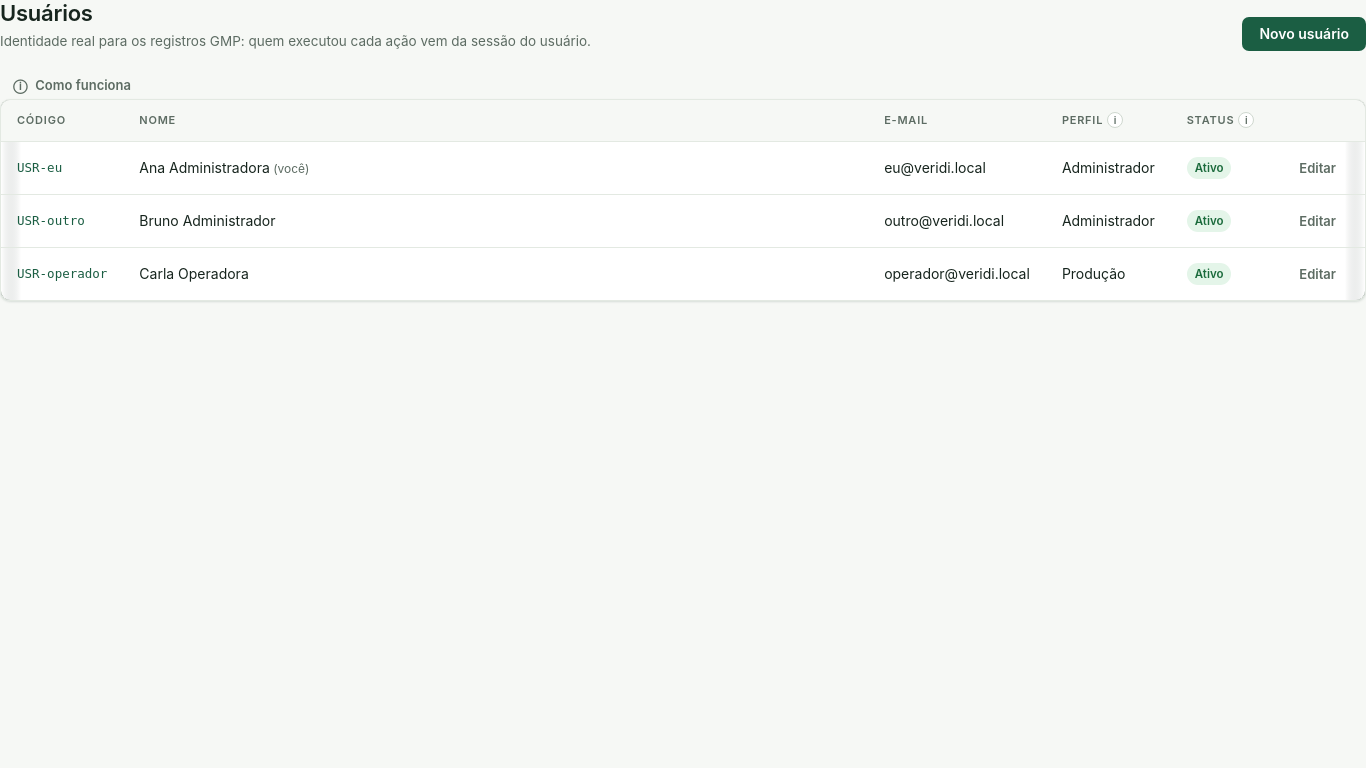
it: o próprio usuário › perfil e situação travados, com o motivo; o nome segue editável e salva sem sair do conjunto
Click the button "Editar" in the row of "USR-eu": click(1318, 168) [1286,154,1349,182]
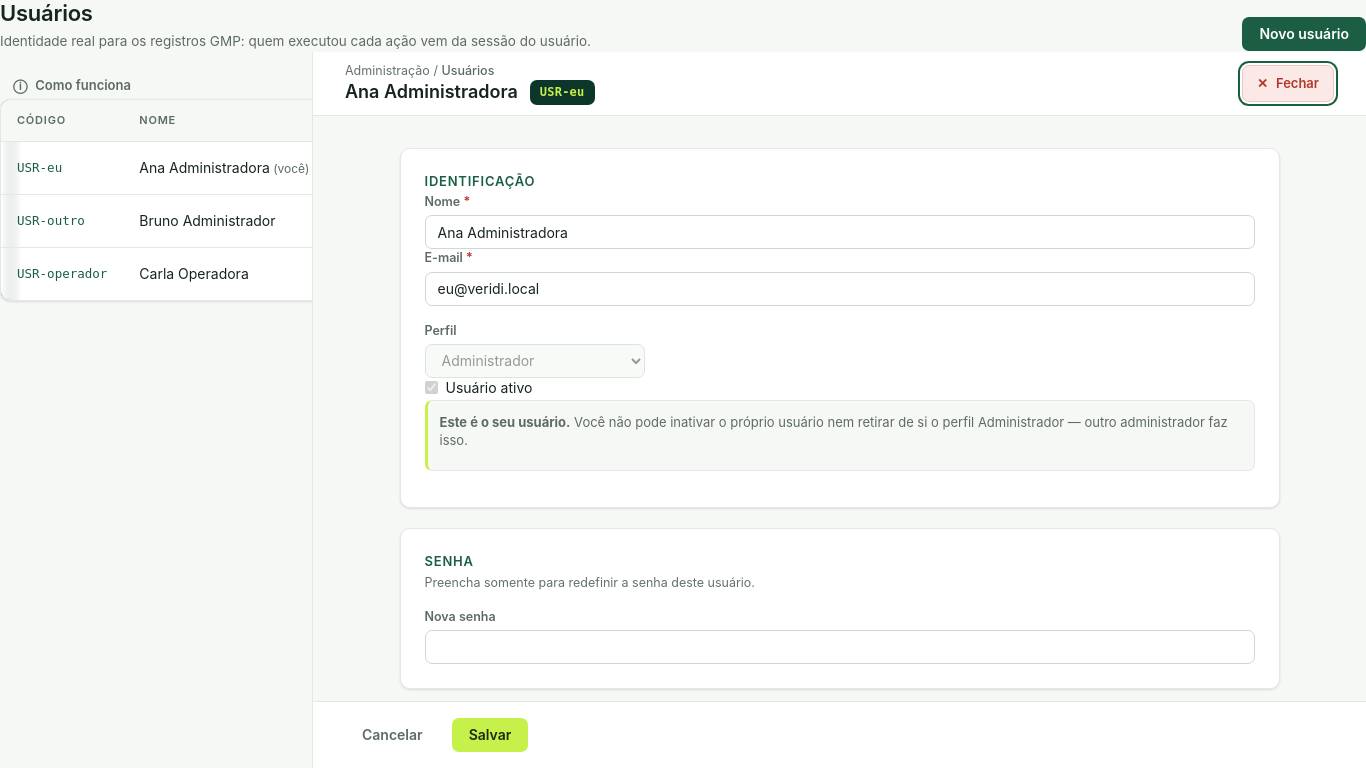
Expected: the dropdown labelled "Perfil" is disabled, [424,344,644,378]
Expected: the checkbox labelled "Usuário ativo" is disabled, [424,381,438,394]
Expected: the checkbox labelled "Usuário ativo" is checked, [424,381,438,394]
Replace the text in the field labelled "Nome *" with "Ana Administradora Silva": (840, 232) [424,215,1254,249]
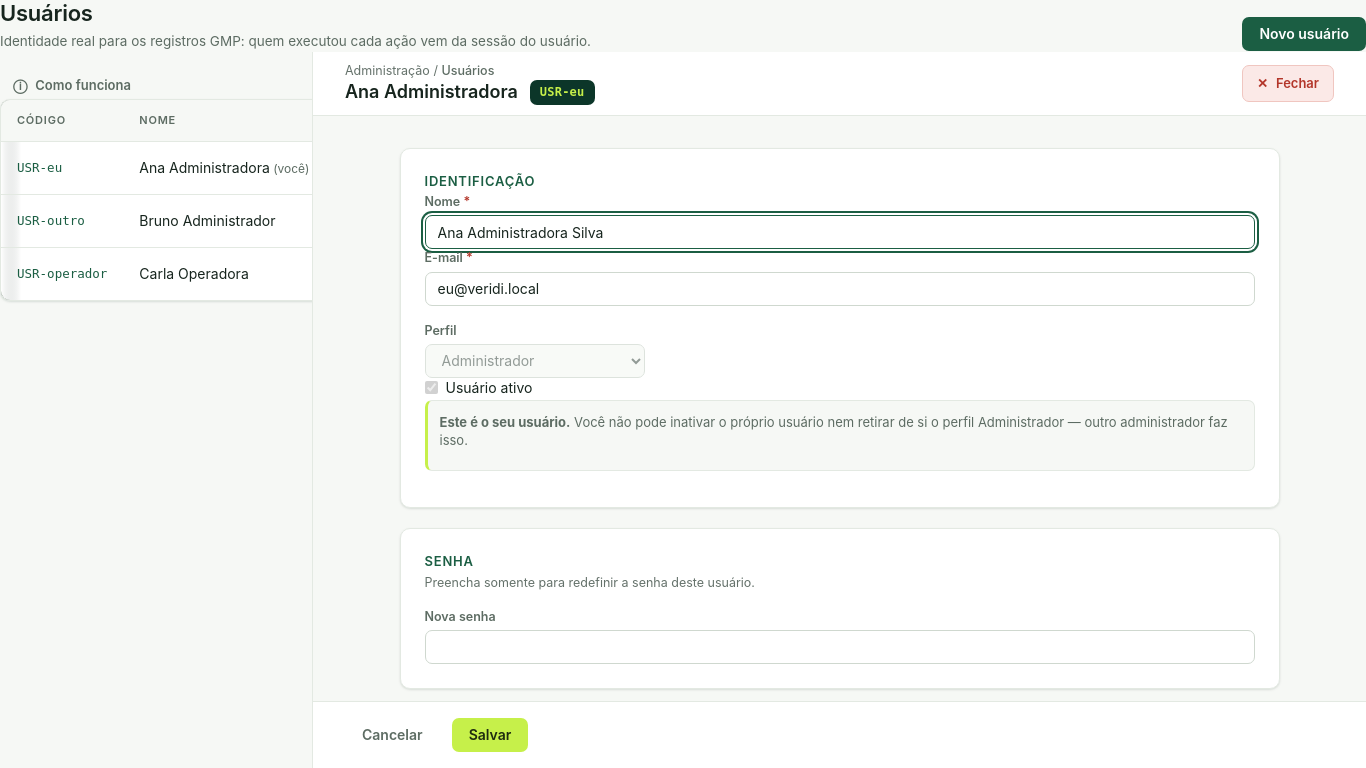
Click the button "Salvar": click(490, 735) [452,718,528,752]
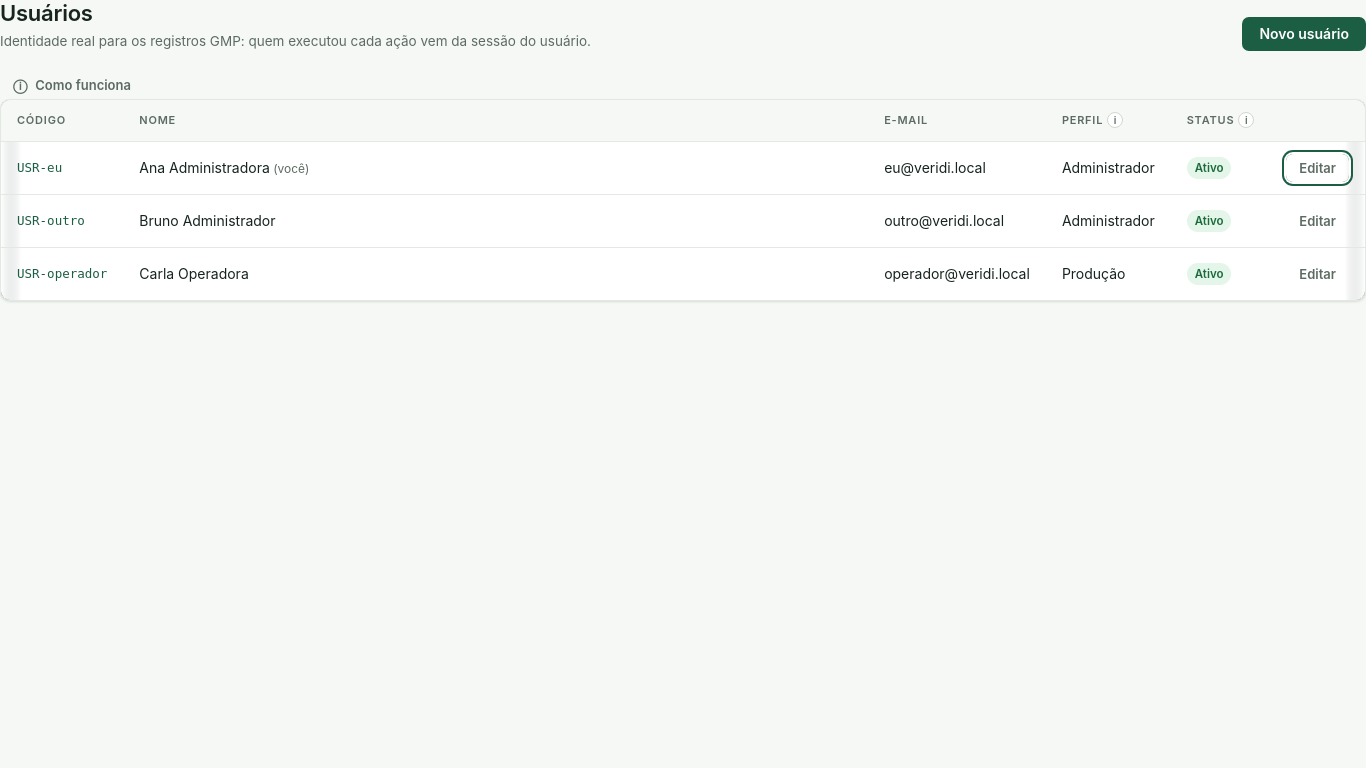
Expected: the dialog is gone
